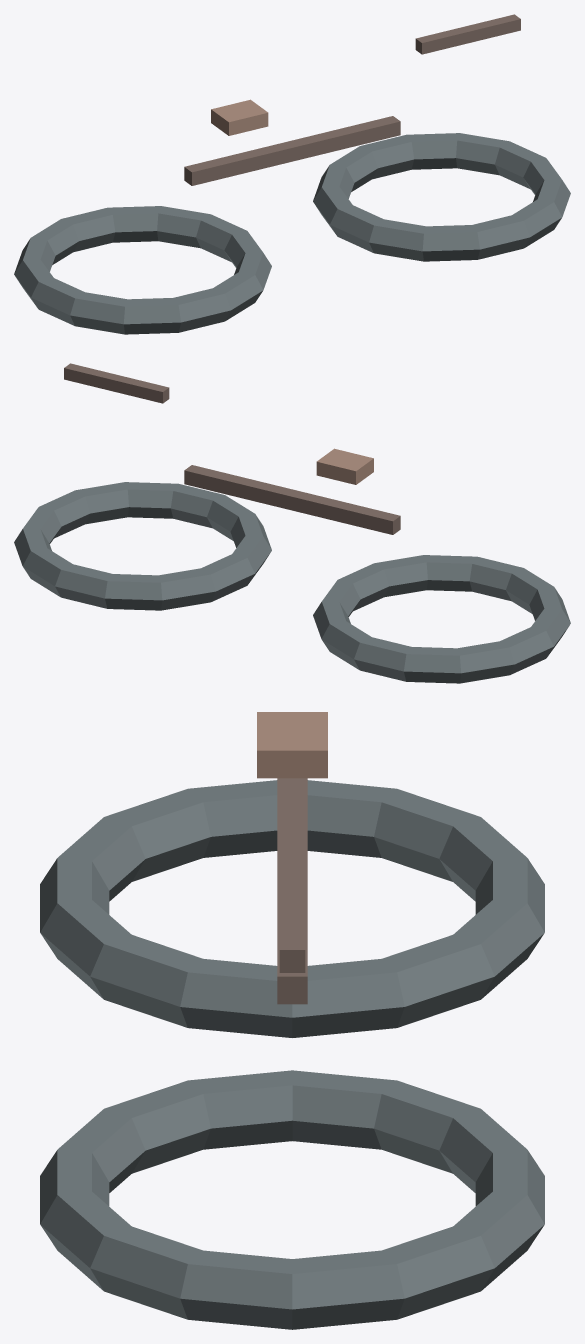
The model's file is prop-bike-01.glb.
The picture shows the model from 3 angles, top to bottom: view 1: azimuth 30°, elevation 25°; view 2: azimuth 150°, elevation 25°; view 3: azimuth 270°, elevation 25°; orthographic projection. The views are drawn at different scales.
Parts seen in each view (by area): view 1: wheel_0.34, wheel_-0.34, frame, handle, seat; view 2: wheel_0.34, wheel_-0.34, frame, handle, seat; view 3: wheel_0.34, wheel_-0.34, seat, frame, handle.
Boxes of the visible parts, x1=… form: wheel_0.34: x1=313, y1=133, x2=570, y2=261; wheel_-0.34: x1=14, y1=206, x2=271, y2=334; frame: x1=184, y1=116, x2=400, y2=185; handle: x1=415, y1=14, x2=520, y2=54; seat: x1=211, y1=99, x2=268, y2=135; wheel_0.34: x1=14, y1=482, x2=271, y2=610; wheel_-0.34: x1=313, y1=555, x2=570, y2=683; frame: x1=184, y1=465, x2=400, y2=534; handle: x1=64, y1=363, x2=169, y2=403; seat: x1=316, y1=448, x2=373, y2=484; wheel_0.34: x1=40, y1=1070, x2=544, y2=1329; wheel_-0.34: x1=40, y1=780, x2=544, y2=1037; seat: x1=257, y1=712, x2=327, y2=778; frame: x1=277, y1=778, x2=307, y2=1004; handle: x1=279, y1=853, x2=305, y2=972.
Bounding box in the file's own units: 1.19 × 0.3828 × 0.4972.
